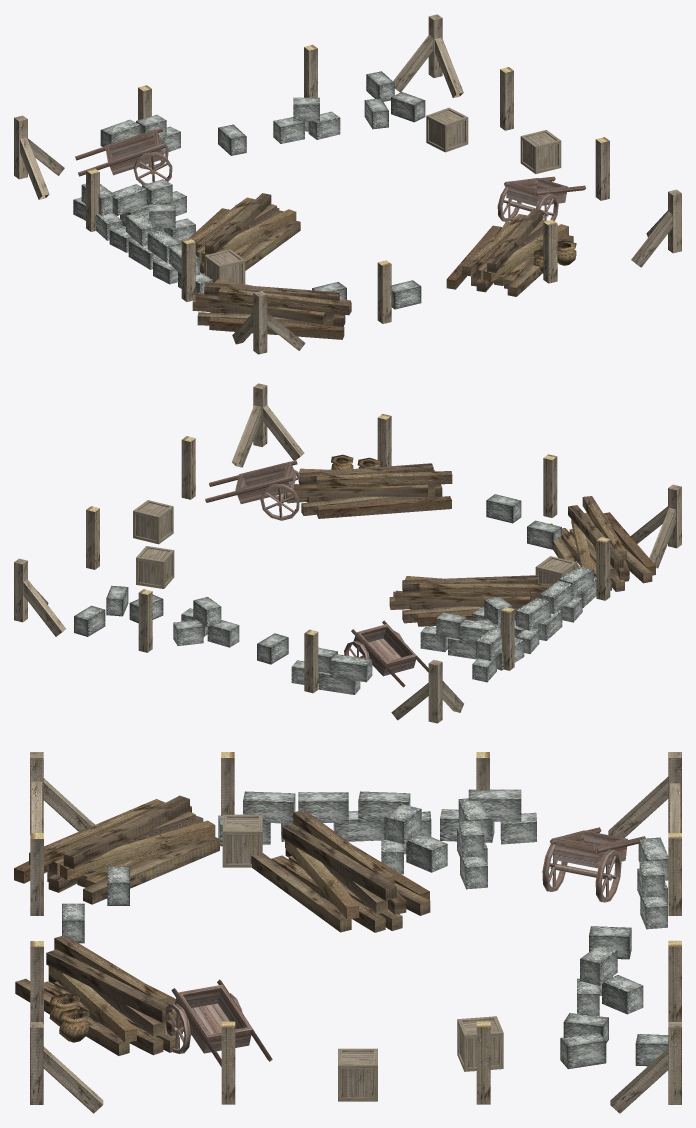
Rendered from fndn_5x5.glb.
3 views of the same model, one above another, from view 1: azimuth 30°, elevation 25°; view 2: azimuth 150°, elevation 25°; view 3: azimuth 270°, elevation 25° (orthographic). The views are drawn at different scales.
Parts seen in each view (by area): view 1: fndn_5x5_part13, fndn_5x5_part14, fndn_5x5_part15, fndn_5x5_part33, fndn_5x5_part17, fndn_5x5_part16, fndn_5x5_part2, fndn_5x5_part31, fndn_5x5_part30, fndn_5x5_part3, fndn_5x5_part4, fndn_5x5_part1 (+18 smaller); view 2: fndn_5x5_part14, fndn_5x5_part15, fndn_5x5_part13, fndn_5x5_part33, fndn_5x5_part16, fndn_5x5_part17, fndn_5x5_part32, fndn_5x5_part31, fndn_5x5_part30, fndn_5x5_part1, fndn_5x5_part4, fndn_5x5_part3 (+19 smaller); view 3: fndn_5x5_part15, fndn_5x5_part13, fndn_5x5_part14, fndn_5x5_part33, fndn_5x5_part16, fndn_5x5_part17, fndn_5x5_part31, fndn_5x5_part34, fndn_5x5_part29, fndn_5x5_part32, fndn_5x5_part30, fndn_5x5_part1 (+22 smaller).
Part boxes in pixels (x1,y1,x2,y2): fndn_5x5_part13: (192,279,351,339); fndn_5x5_part14: (446,209,573,296); fndn_5x5_part15: (189,193,300,273); fndn_5x5_part33: (109,213,213,295); fndn_5x5_part17: (75,127,172,185); fndn_5x5_part16: (497,176,586,221); fndn_5x5_part2: (393,14,463,97); fndn_5x5_part31: (273,97,340,143); fndn_5x5_part30: (112,179,186,226); fndn_5x5_part3: (14,115,64,199); fndn_5x5_part4: (232,291,305,354); fndn_5x5_part1: (631,189,681,267); fndn_5x5_part14: (286,463,452,518); fndn_5x5_part15: (389,575,553,626); fndn_5x5_part13: (550,496,655,591); fndn_5x5_part33: (515,566,596,653); fndn_5x5_part16: (205,460,299,520); fndn_5x5_part17: (344,620,428,687); fndn_5x5_part32: (291,647,372,694); fndn_5x5_part31: (173,597,239,647); fndn_5x5_part30: (420,612,500,659); fndn_5x5_part1: (232,383,304,467); fndn_5x5_part4: (630,484,681,568); fndn_5x5_part3: (391,660,463,723); fndn_5x5_part15: (251,809,430,932); fndn_5x5_part13: (14,795,219,904); fndn_5x5_part14: (15,935,191,1055); fndn_5x5_part33: (218,791,431,846); fndn_5x5_part16: (164,979,272,1066); fndn_5x5_part17: (542,827,645,902); fndn_5x5_part31: (577,946,643,1015); fndn_5x5_part34: (381,804,447,874); fndn_5x5_part29: (440,789,536,844); fndn_5x5_part32: (637,837,668,929); fndn_5x5_part30: (457,798,488,889); fndn_5x5_part1: (30,1022,103,1113).
Size of the model in its own units: 4.45 by 0.971 by 4.4.
Materials: 4 (4 with a texture image).
